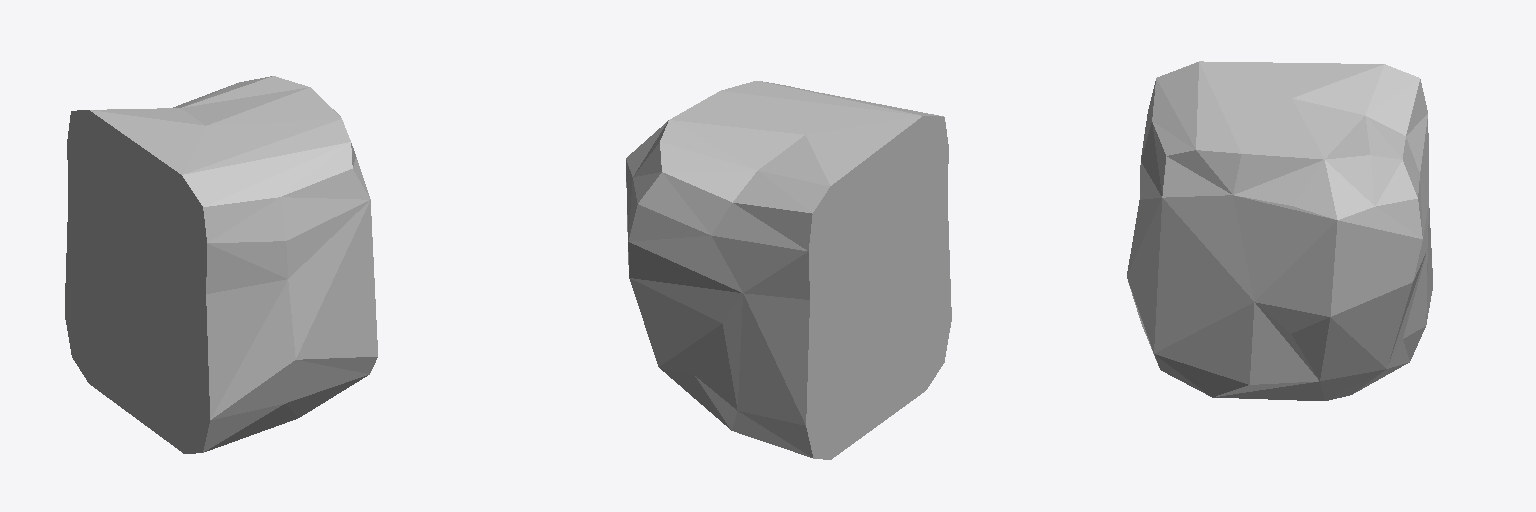
Rendered from Cave_CapEnd_A.obj.
3 renders of one model, left to right at view 1: azimuth 30°, elevation 25°; view 2: azimuth 150°, elevation 25°; view 3: azimuth 270°, elevation 25°, orthographic.
Parts seen in each view (by area): view 1: Cave_CapEnd_A; view 2: Cave_CapEnd_A; view 3: Cave_CapEnd_A.
Boxes of the visible parts, <box> form: Cave_CapEnd_A: <box>65,76,377,453</box>; Cave_CapEnd_A: <box>626,81,951,459</box>; Cave_CapEnd_A: <box>1127,61,1432,400</box>.
Bounding box in the file's own units: 1.81 × 2.08 × 2.09.